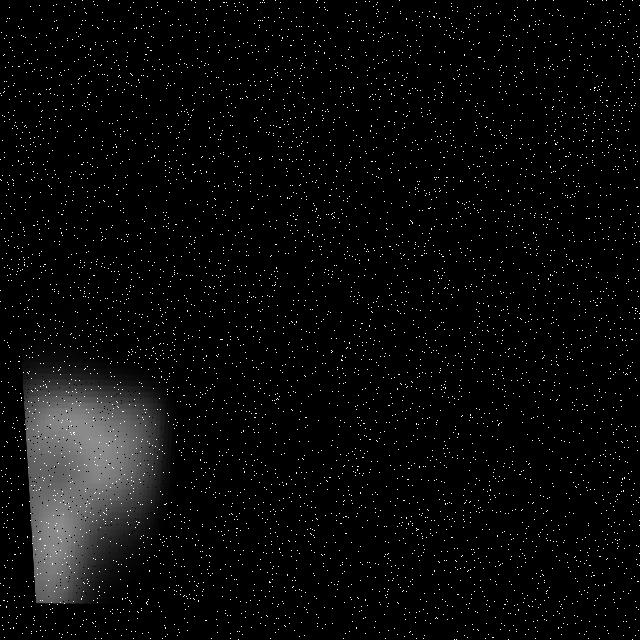person: (13, 243, 208, 621)
